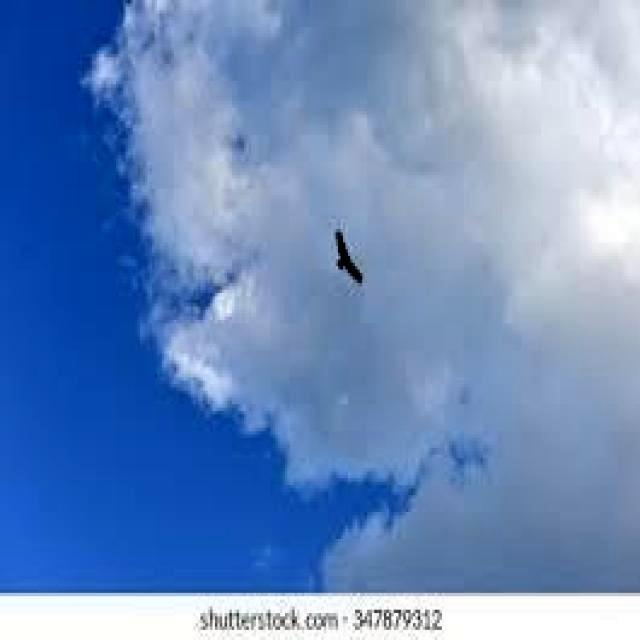bird: (329, 221, 366, 292)
